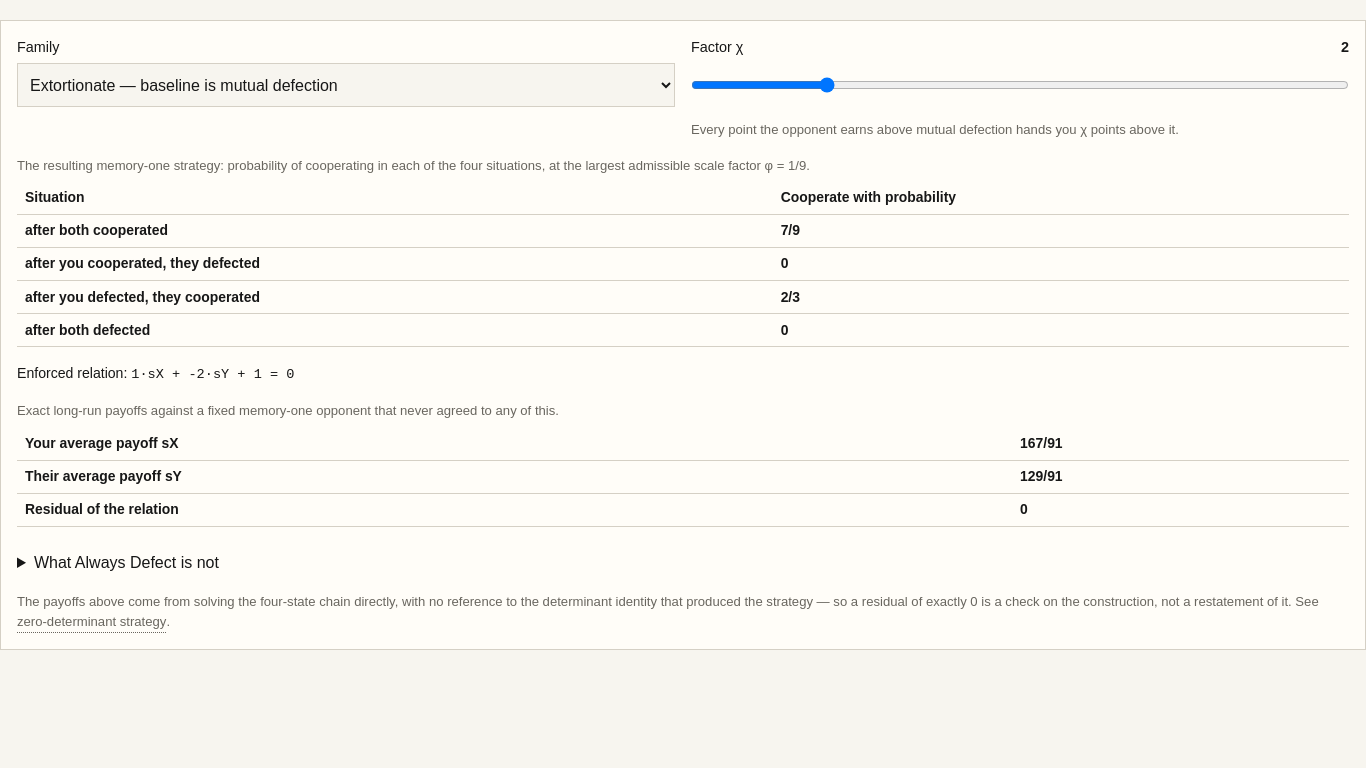
Test case: zero-determinant demo › states plainly that Always Defect is not a ZD strategy
Click the heading "What Always Defect is not": point(126, 562) [34,554,219,571]
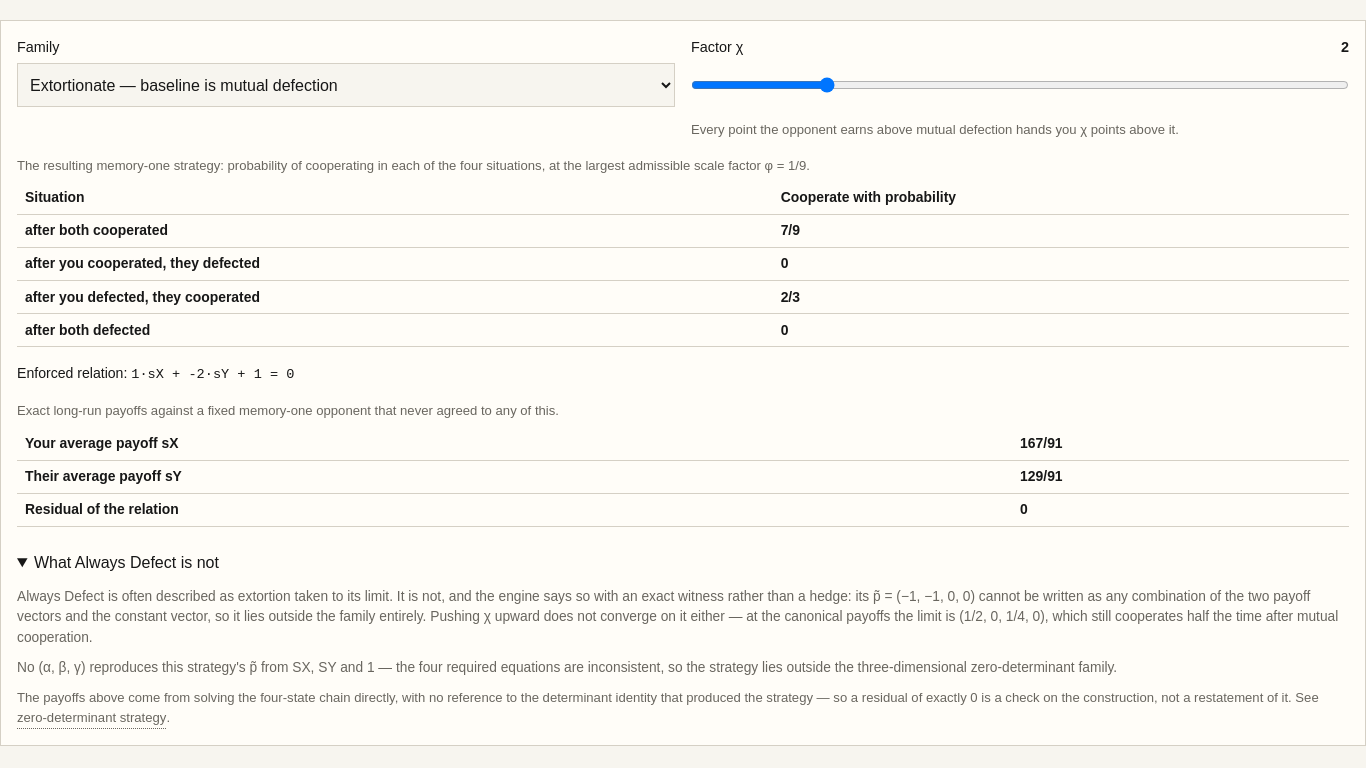
Now the text with test id "zd-alld" shows "inconsistent", box [17,660,1117,675]
